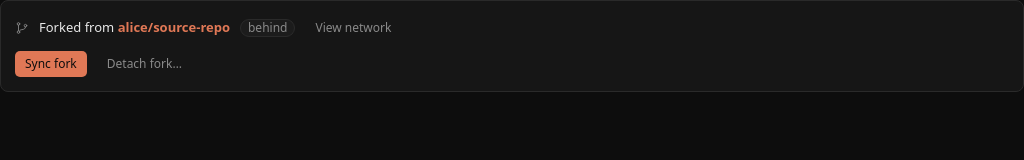
Test: fork status panel › shows the upstream reference and a divergence badge; sync fast-forwards
Check: the text "alice/source-repo" is shown, box [118,18,230,36]
Check: the text "behind" is shown, box [240,19,296,37]
Click the button "Sync fork".
click(51, 64)  # box [15,51,87,77]
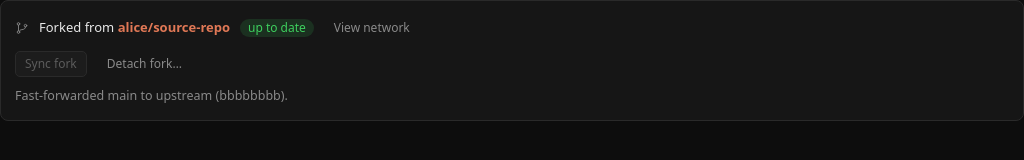
Check: the text "Fast-forwarded main to upstream" is shown, box [15,87,288,104]
Check: the text "up to date" is shown, box [240,19,314,37]
